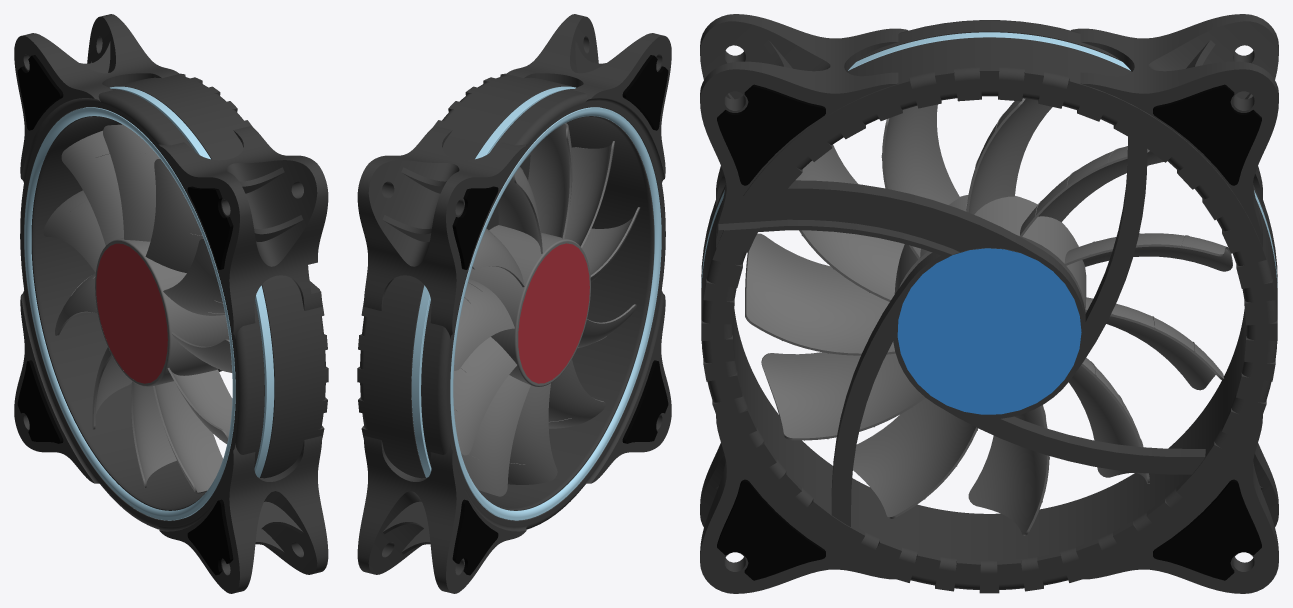
Rendered from 120mm_fan_sample.glb.
3 renders of one model, left to right at view 1: azimuth 30°, elevation 25°; view 2: azimuth 150°, elevation 25°; view 3: azimuth 270°, elevation 25°, orthographic. The views are drawn at different scales.
Visible parts, largest first — view 1: fan_frame.001, fan; view 2: fan_frame.001, fan; view 3: fan_frame.001, fan.
Part boxes in pixels (bbox=[...]): fan_frame.001: bbox=[14, 14, 328, 593]; fan: bbox=[43, 124, 232, 493]; fan_frame.001: bbox=[357, 14, 671, 593]; fan: bbox=[453, 123, 640, 496]; fan_frame.001: bbox=[700, 14, 1278, 593]; fan: bbox=[745, 98, 1232, 535].
Size of the model in its own units: 0.029 by 0.1195 by 0.1195.
